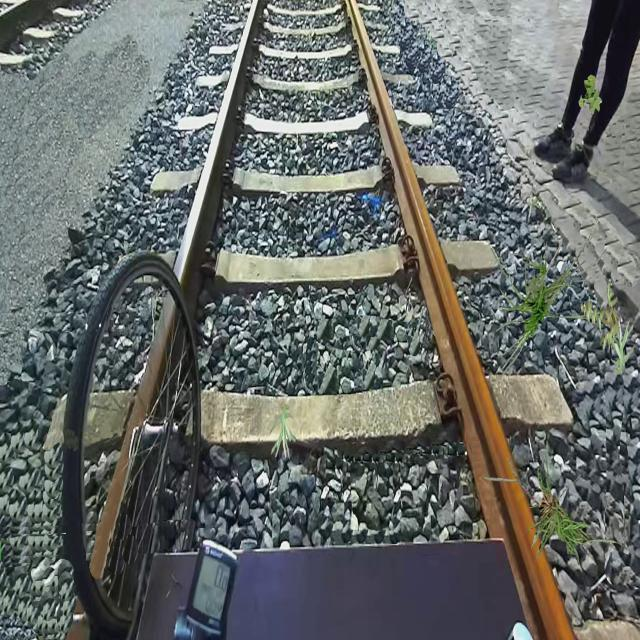Plant: (488, 218, 606, 382), (484, 446, 628, 566), (580, 280, 622, 352), (609, 318, 636, 374), (270, 403, 296, 460), (579, 74, 603, 115)
